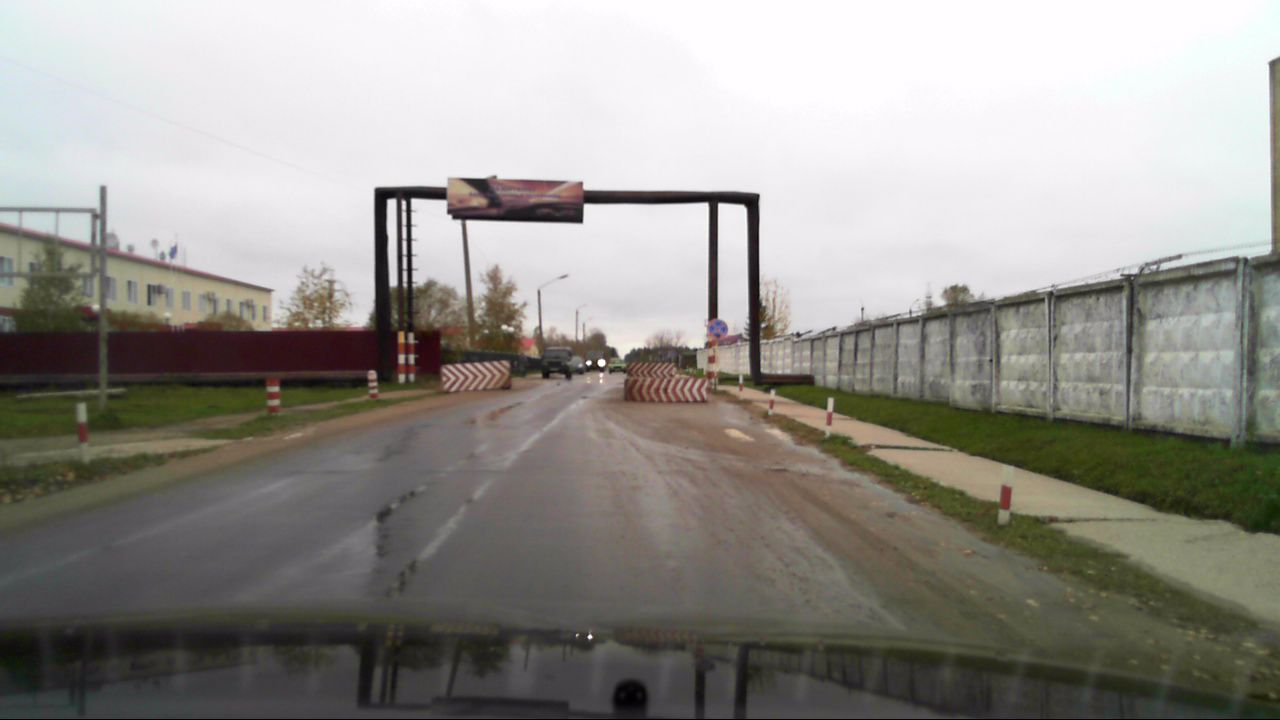No Parking: (706, 319, 727, 340)
